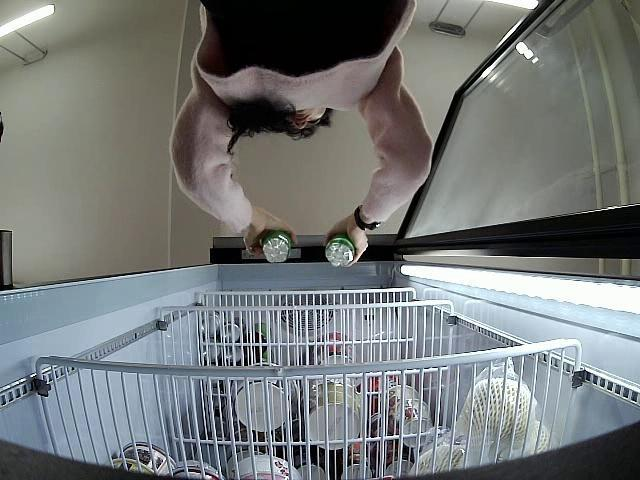18_trevi: (259, 230, 292, 265), (324, 234, 354, 268)
